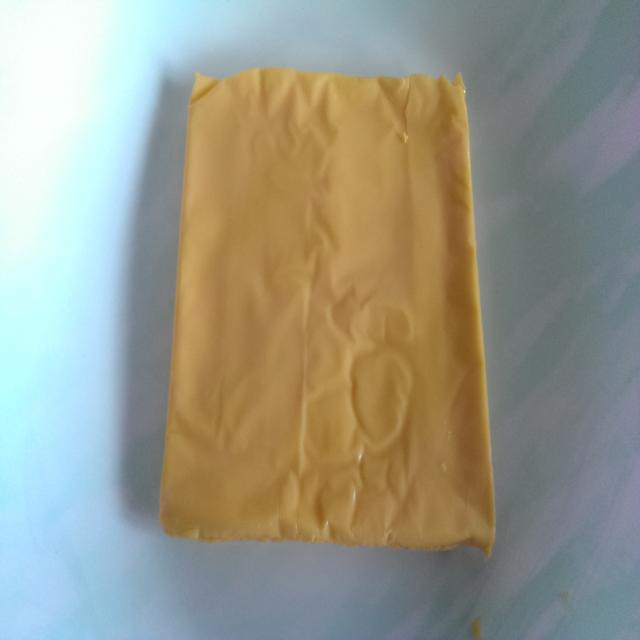Cheese: (149, 50, 509, 578)
